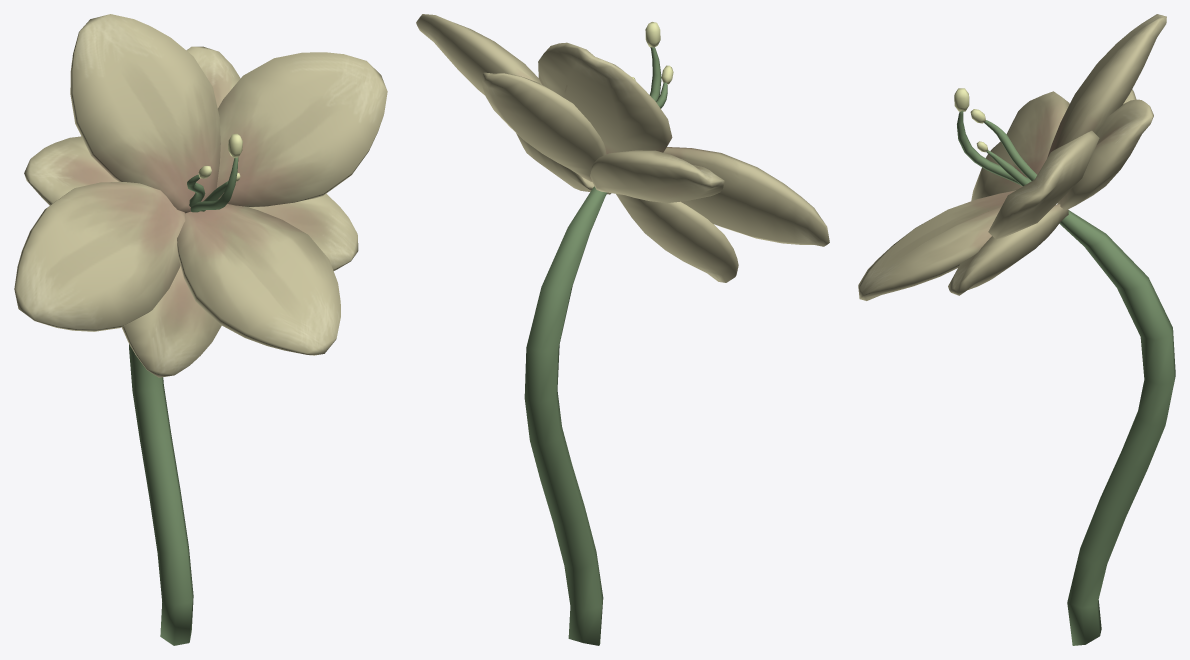
The model's file is yellow flower.fbx.
3 renders of one model, left to right at view 1: azimuth 30°, elevation 25°; view 2: azimuth 150°, elevation 25°; view 3: azimuth 270°, elevation 25°, orthographic. The views are drawn at different scales.
Parts seen in each view (by area): view 1: Sphere.028, BézierCurve.003; view 2: Sphere.028, BézierCurve.003; view 3: Sphere.028, BézierCurve.003.
Boxes of the visible parts, x1=… form: Sphere.028: x1=14, y1=14, x2=387, y2=377; BézierCurve.003: x1=129, y1=133, x2=242, y2=645; Sphere.028: x1=416, y1=14, x2=829, y2=282; BézierCurve.003: x1=524, y1=22, x2=673, y2=645; Sphere.028: x1=858, y1=14, x2=1166, y2=300; BézierCurve.003: x1=954, y1=88, x2=1175, y2=645.
Size of the model in its own units: 23.05 by 35.26 by 16.69.
